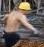gloves: (1, 1, 1, 1)
hard-hat: (18, 0, 30, 8)
